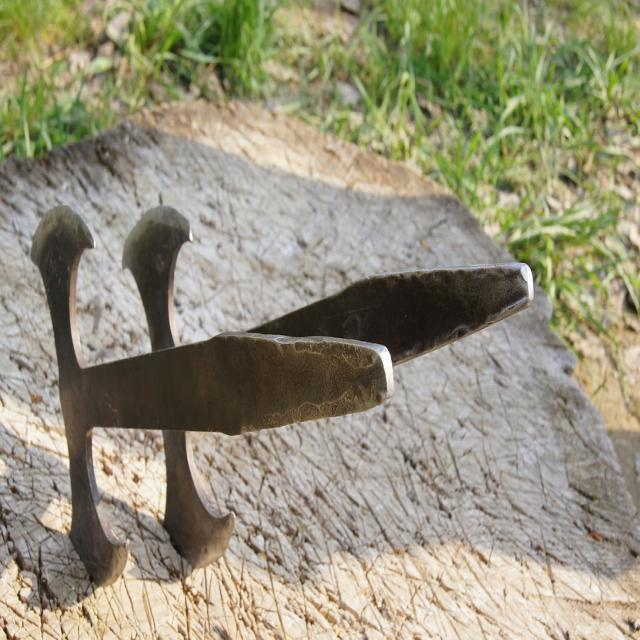Axe: (31, 206, 534, 584)
